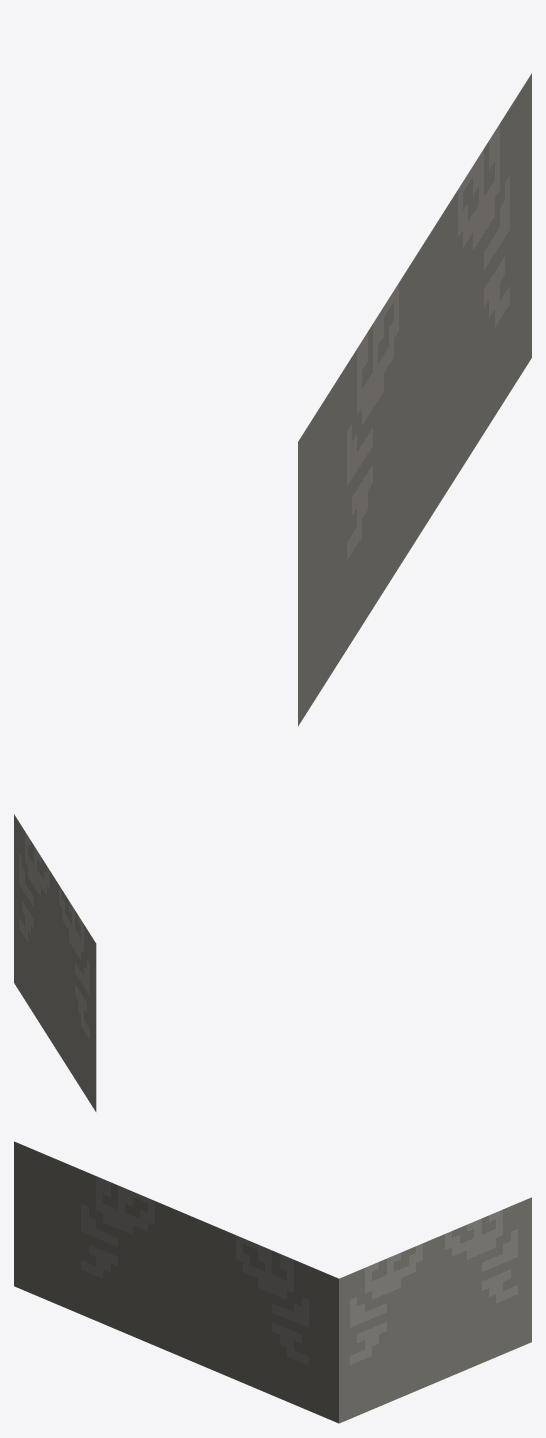
The model's file is kd_stage_135c43_4_96_bounded_piece_2.glb.
The picture shows the model from 3 angles, top to bottom: view 1: azimuth 30°, elevation 25°; view 2: azimuth 150°, elevation 25°; view 3: azimuth 270°, elevation 25°; orthographic projection. The views are drawn at different scales.
Visible parts, largest first — view 1: kd_stage_135c43_4_96_bounded_piece_2; view 2: kd_stage_135c43_4_96_bounded_piece_2; view 3: kd_stage_135c43_4_96_bounded_piece_2.
Boxes of the visible parts, x1,y1,x2,y2 form: kd_stage_135c43_4_96_bounded_piece_2: (298,73,531,726); kd_stage_135c43_4_96_bounded_piece_2: (14,814,96,1111); kd_stage_135c43_4_96_bounded_piece_2: (14,1141,531,1423).
Bounding box in the file's own units: 0.4301 × 0.2115 × 0.6853.
1 material, 1 textured.
